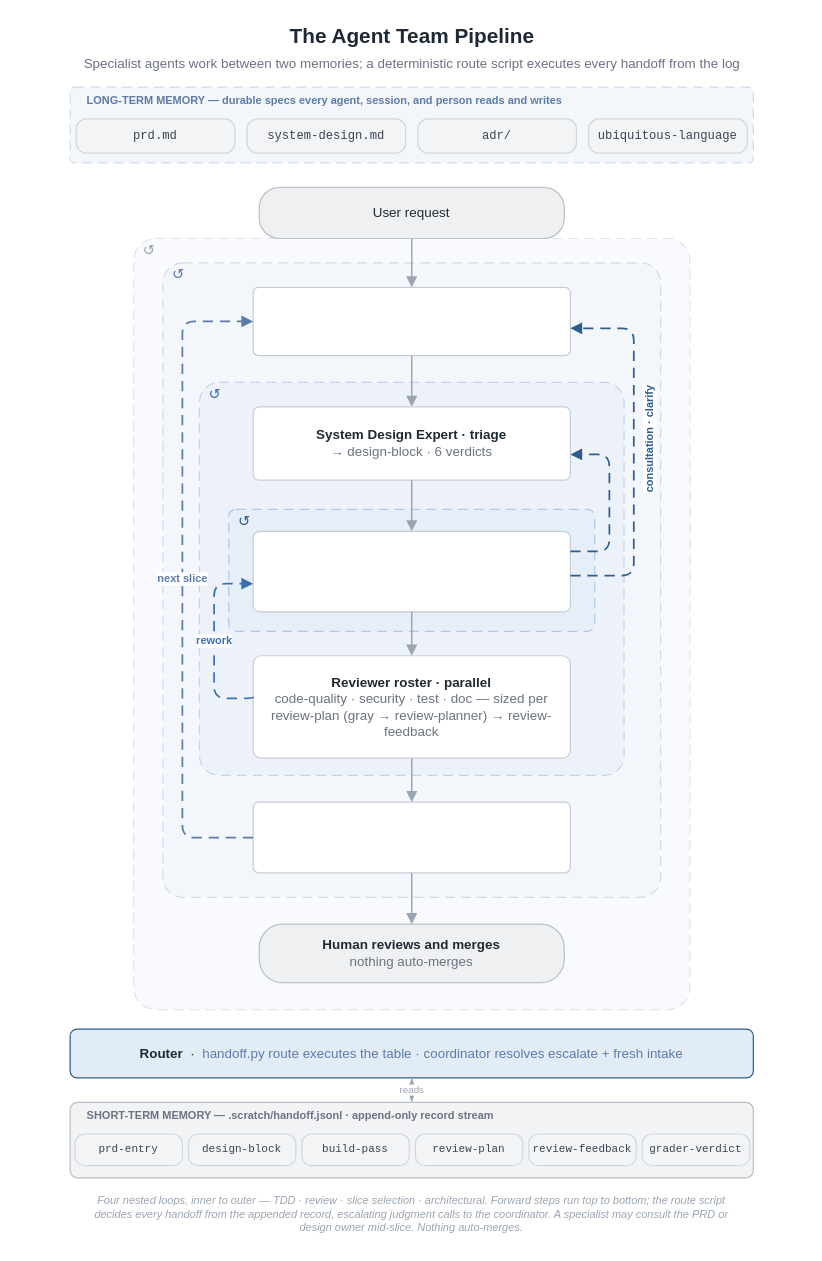
The diagram is 822 pixels wide and 1261 high, and some of its shapes have lost their labels. Here are the shapes that lost their labels. From the top down, the box of each, then its label:
(252, 286, 570, 356): Product Requirements Expert → prd-entry
(252, 530, 570, 612): Feature Implementer quality gate → build-pass / build-failure · review-plan
(252, 801, 570, 873): Change Grader · advisory → grader-verdict · skim | scrutinize
